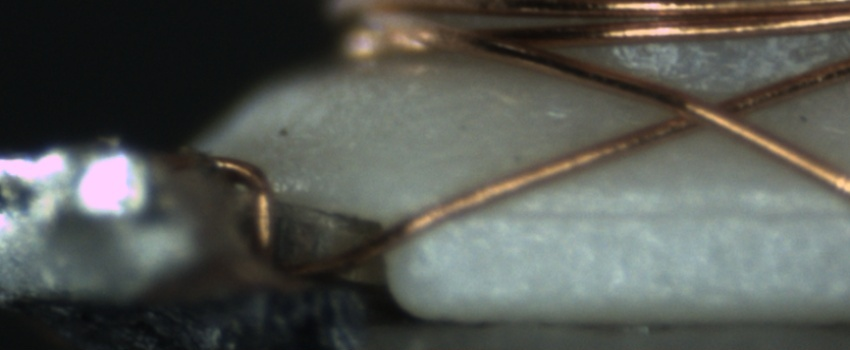CL: (644, 82, 776, 141)
DL: (457, 187, 849, 249)
TE: (185, 143, 287, 275)
